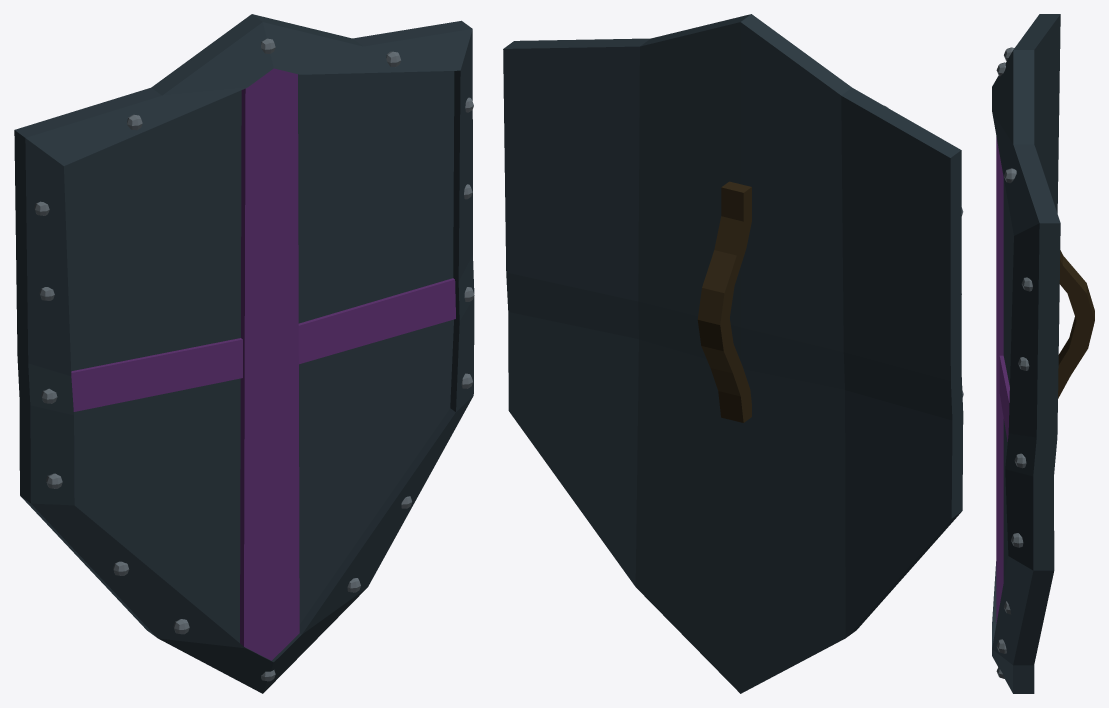
The model's file is SM_Prop_Escudo.fbx.
The picture shows the model from 3 angles, left to right: view 1: azimuth 30°, elevation 25°; view 2: azimuth 150°, elevation 25°; view 3: azimuth 270°, elevation 25°; orthographic projection. The views are drawn at different scales.
Parts seen in each view (by area): view 1: mechas; view 2: mechas; view 3: mechas.
Part boxes in pixels (x1,y1,x2,y2): mechas: (14, 14, 474, 693); mechas: (503, 14, 963, 693); mechas: (992, 14, 1094, 693).
Bounding box in the file's own units: 138 × 199 × 28.76.
1 material, 1 textured.
